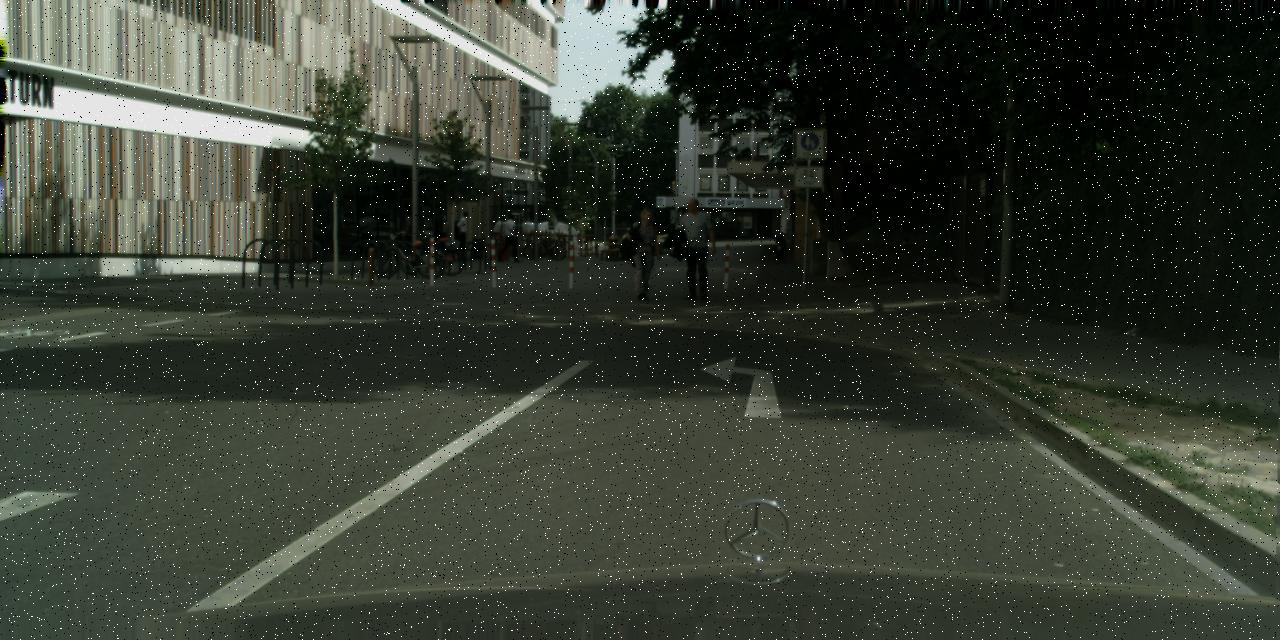ped: (674, 198, 716, 298), (626, 207, 663, 297), (454, 210, 474, 258), (500, 214, 519, 261)
